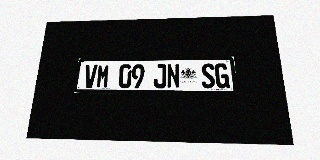0: (118, 64, 132, 88)
9: (131, 64, 145, 88)
G: (214, 63, 230, 88)
J: (153, 64, 166, 88)
M: (96, 64, 110, 88)
N: (167, 64, 180, 88)
S: (201, 63, 216, 88)
V: (83, 65, 98, 88)
